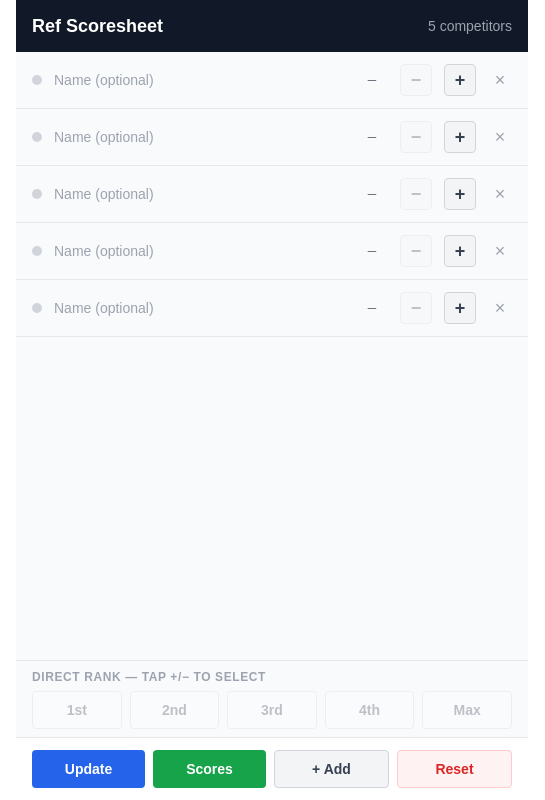
Test: ScoresheetPage › Increase ticks button shows tick mark
The image size is (545, 800).
Click the button named "increase ticks" at (460, 80), box [444,64,476,96]
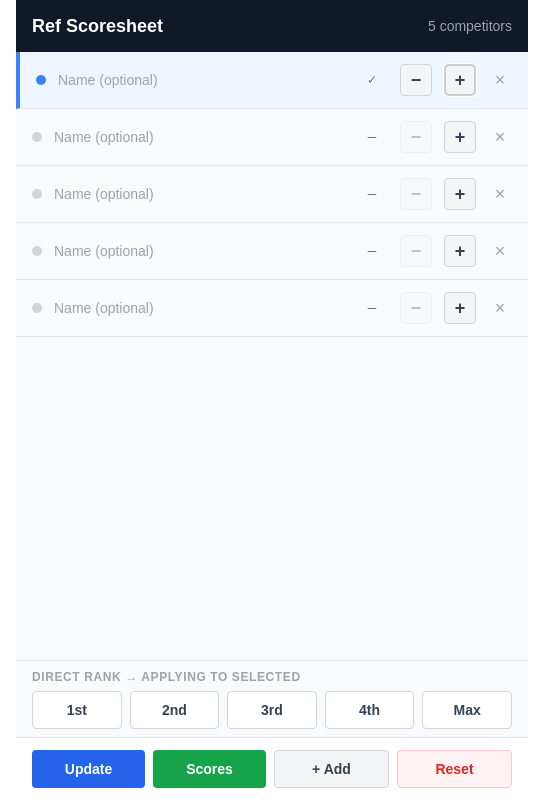
expect the text "✓" is shown: met, box [368,72,376,88]
